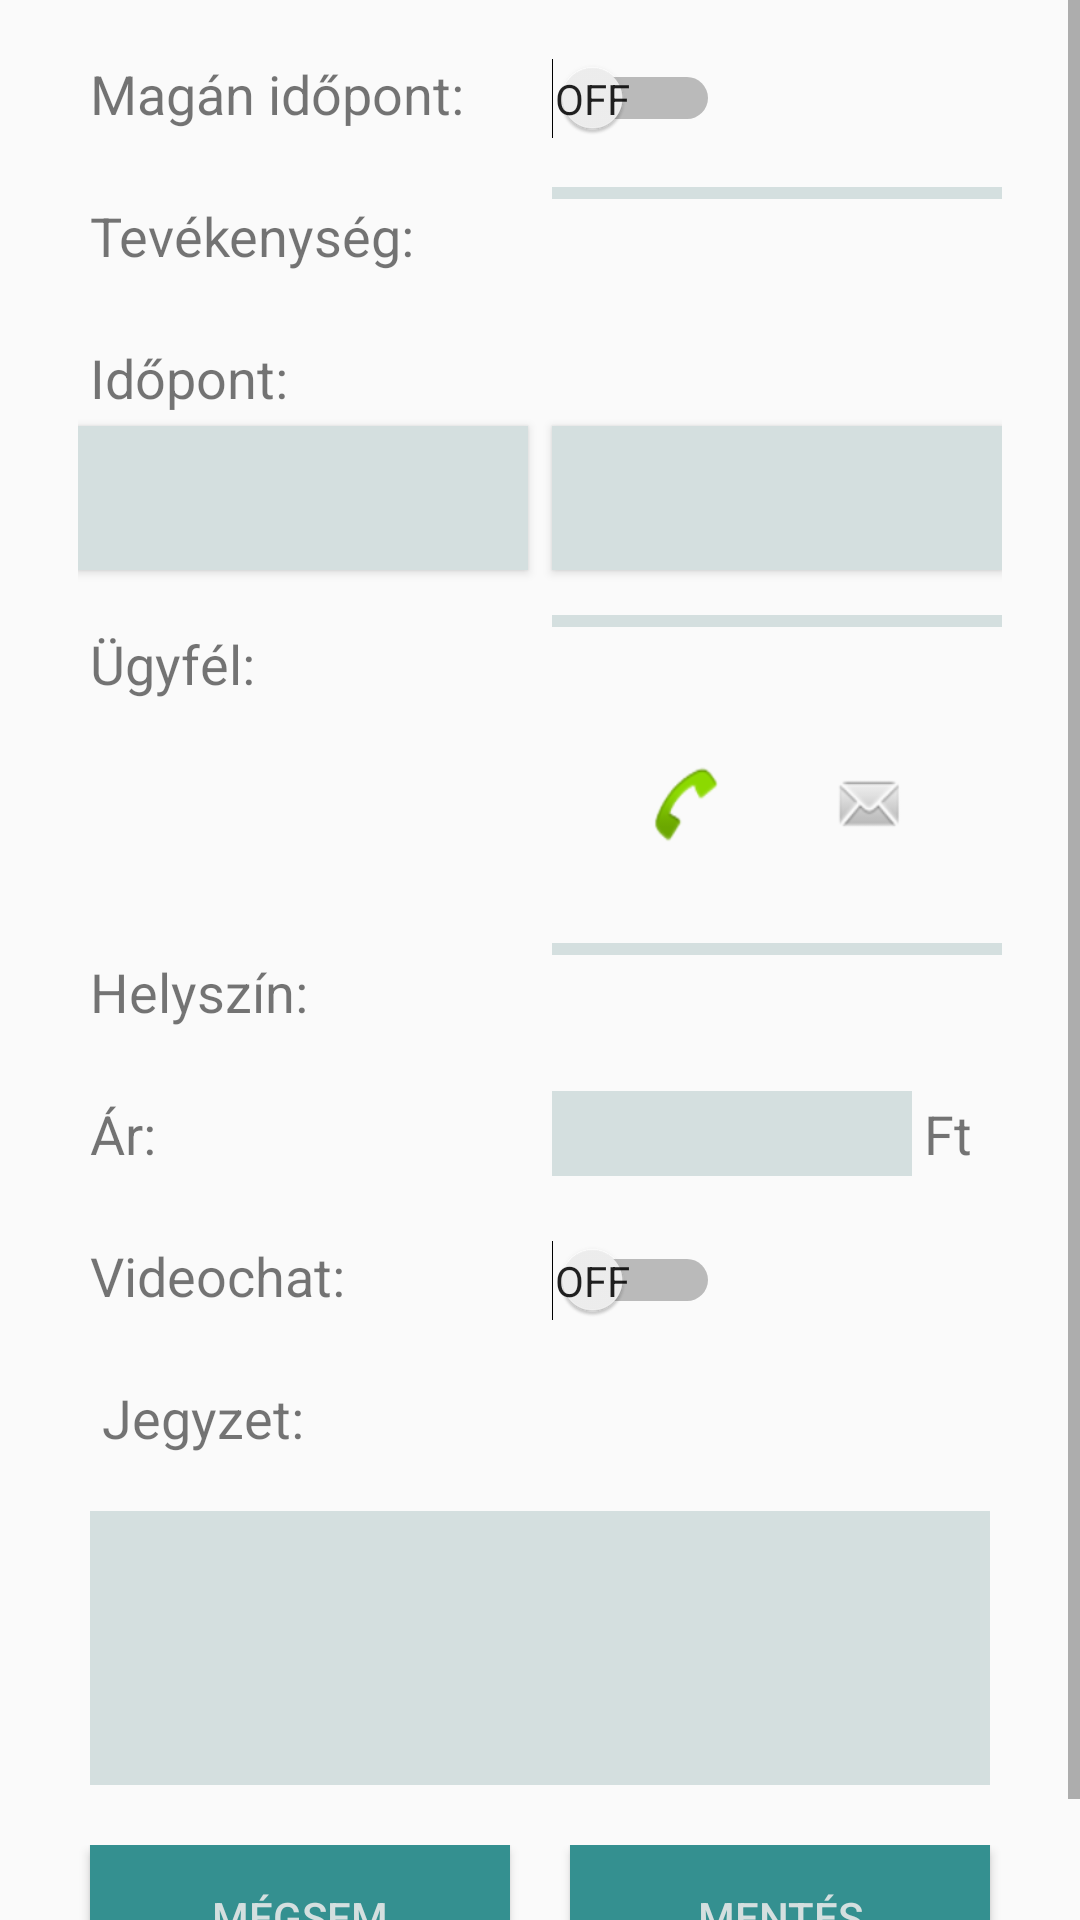

Icons on this 1080px×1920px Android screen, each with the point to tap as [x,y]:
sym action call: [686,804]
sym action email: [869,803]
